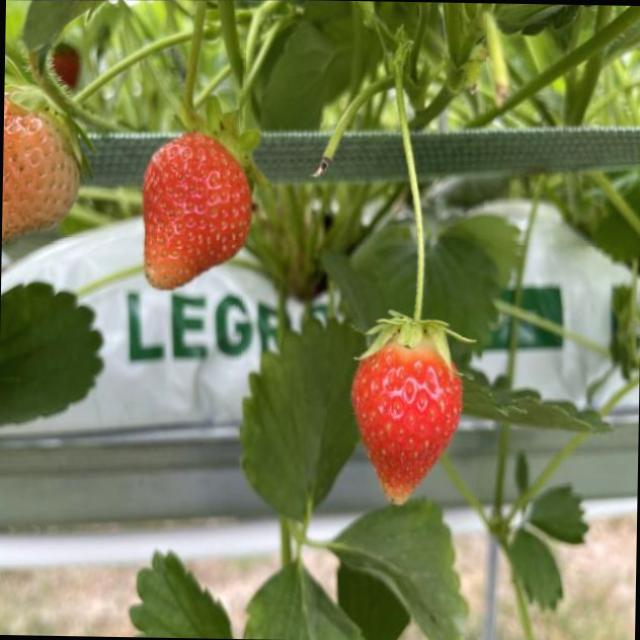stem: (358, 77, 472, 370), (27, 32, 188, 138), (191, 18, 286, 167)
strawberryR: (352, 340, 461, 502), (141, 130, 250, 287), (1, 95, 77, 240)
